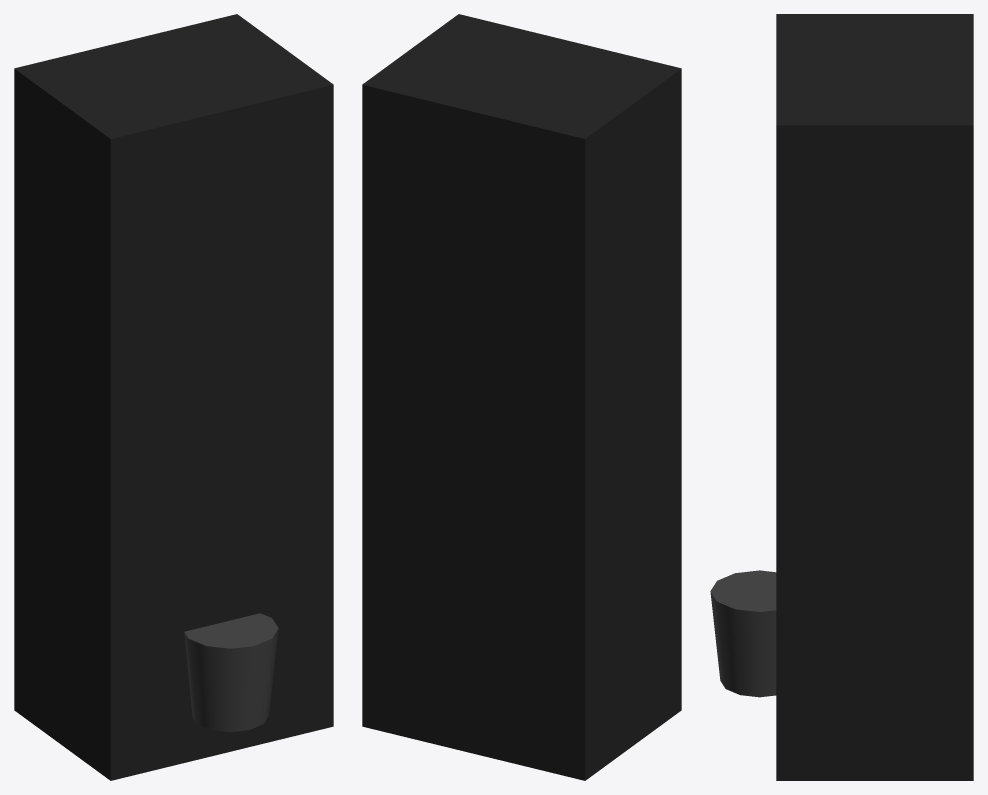
Rendered from station-coffee-machine-authored-atlas.glb.
3 renders of one model, left to right at view 1: azimuth 30°, elevation 25°; view 2: azimuth 150°, elevation 25°; view 3: azimuth 270°, elevation 25°, orthographic. The views are drawn at different scales.
Parts seen in each view (by area): view 1: Authored surface.008; view 2: Authored surface.008; view 3: Authored surface.008.
Part boxes in pixels (left/top/right/bottom): Authored surface.008: left=14, top=14, right=333, bottom=780; Authored surface.008: left=362, top=14, right=681, bottom=780; Authored surface.008: left=710, top=14, right=973, bottom=780.
Size of the model in its own units: 0.8 by 2.2 by 0.8.
Materials: 1 (1 with a texture image).
